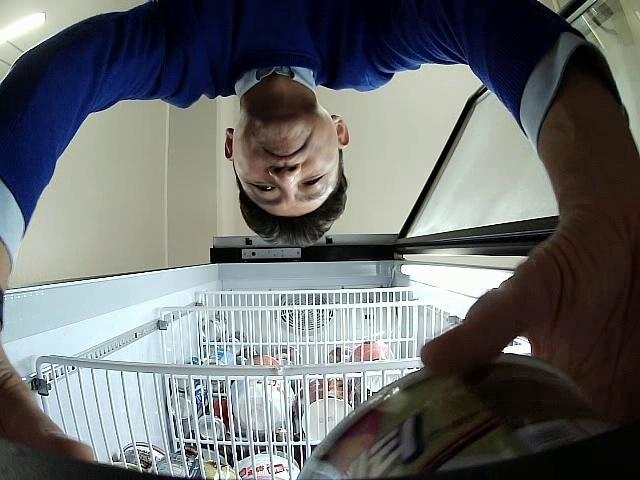03_chapagetti_L: (296, 354, 612, 480)
